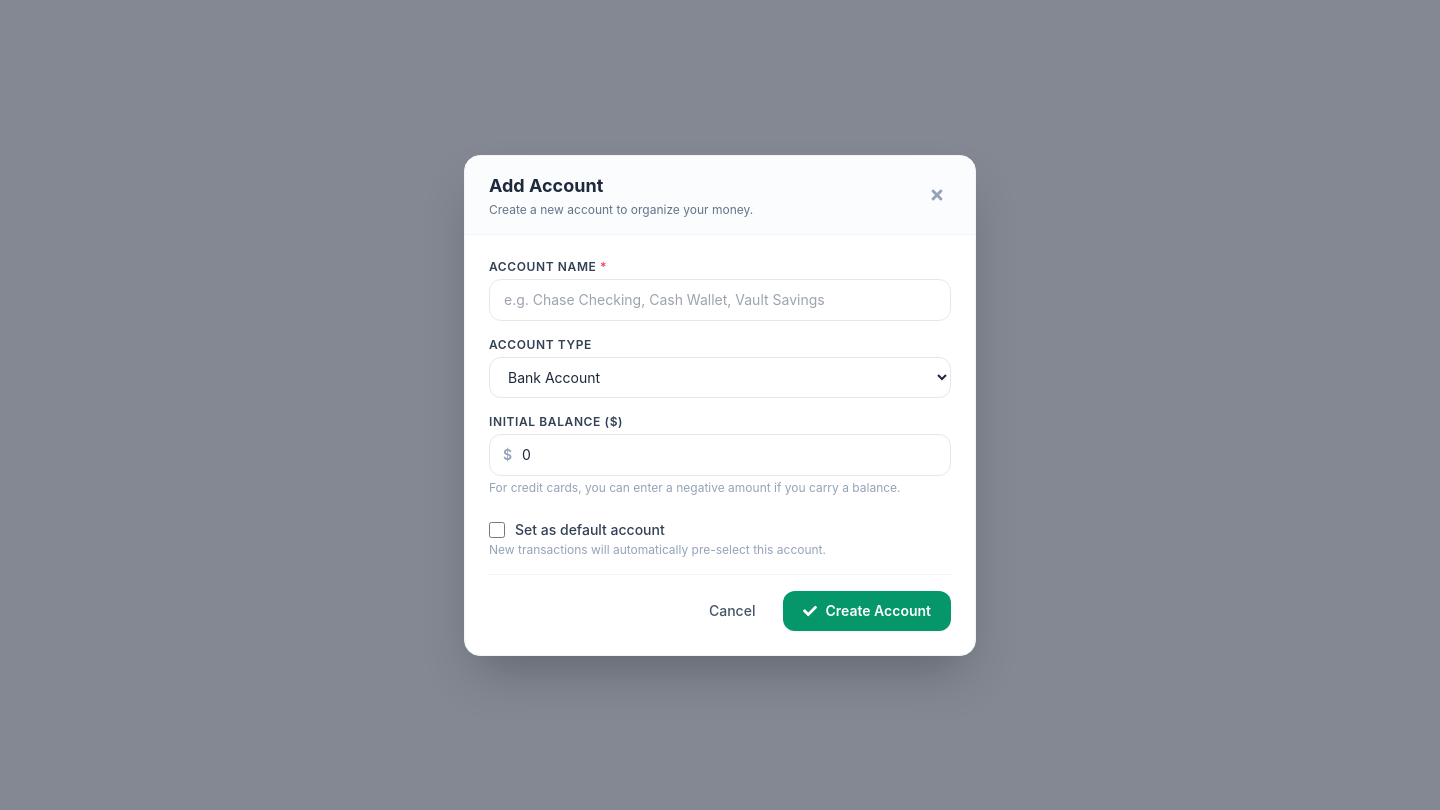
Test: AccountModal Component › displays error message when submission fails
The image size is (1440, 810).
In the field labelled "Account Name *": (720, 300) [489,278,951,320], type "Duplicate Bank"
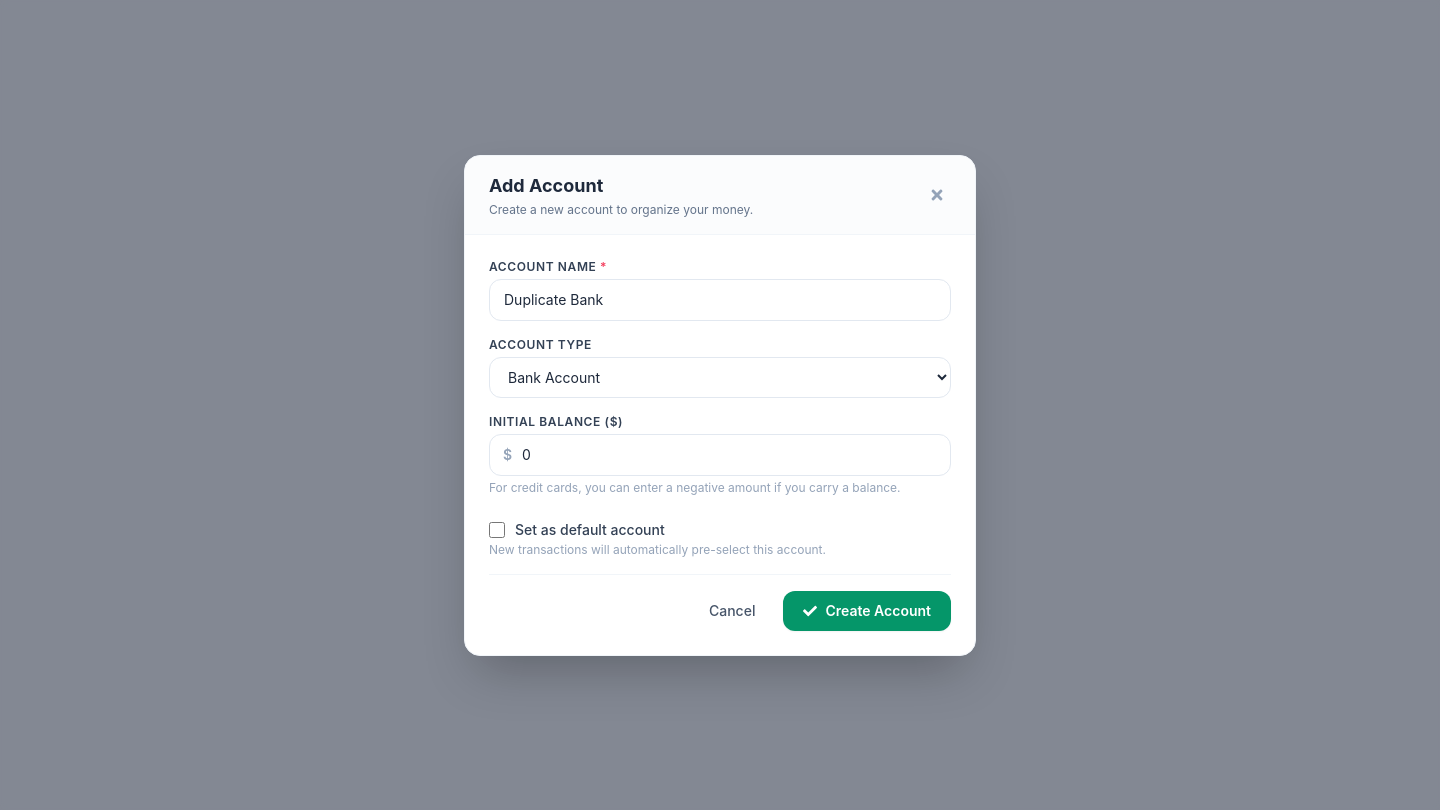
Click the button "Create Account": (867, 610) [784,590,951,630]
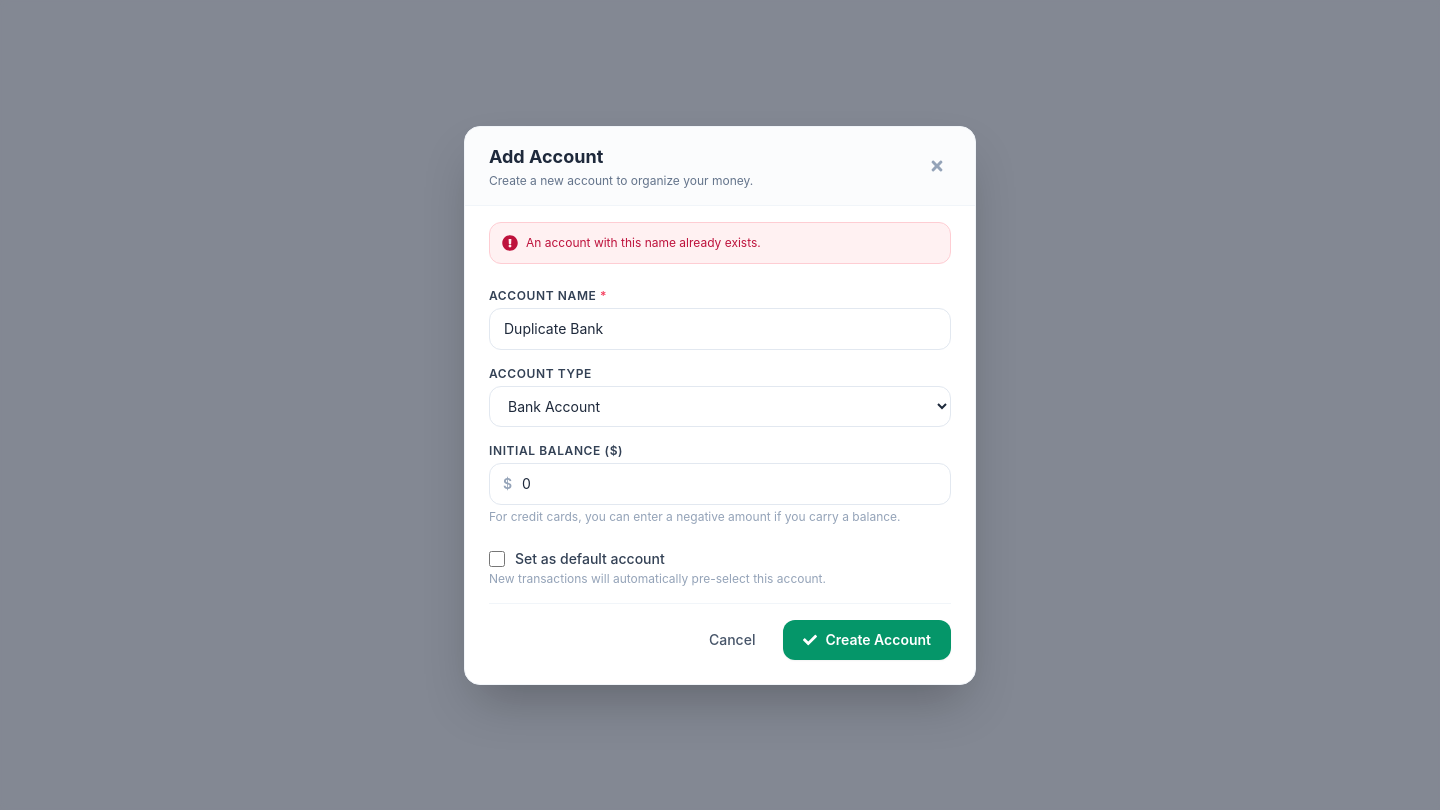
Expected: the text "An account with this name already exists." is shown, [526,234,761,250]
